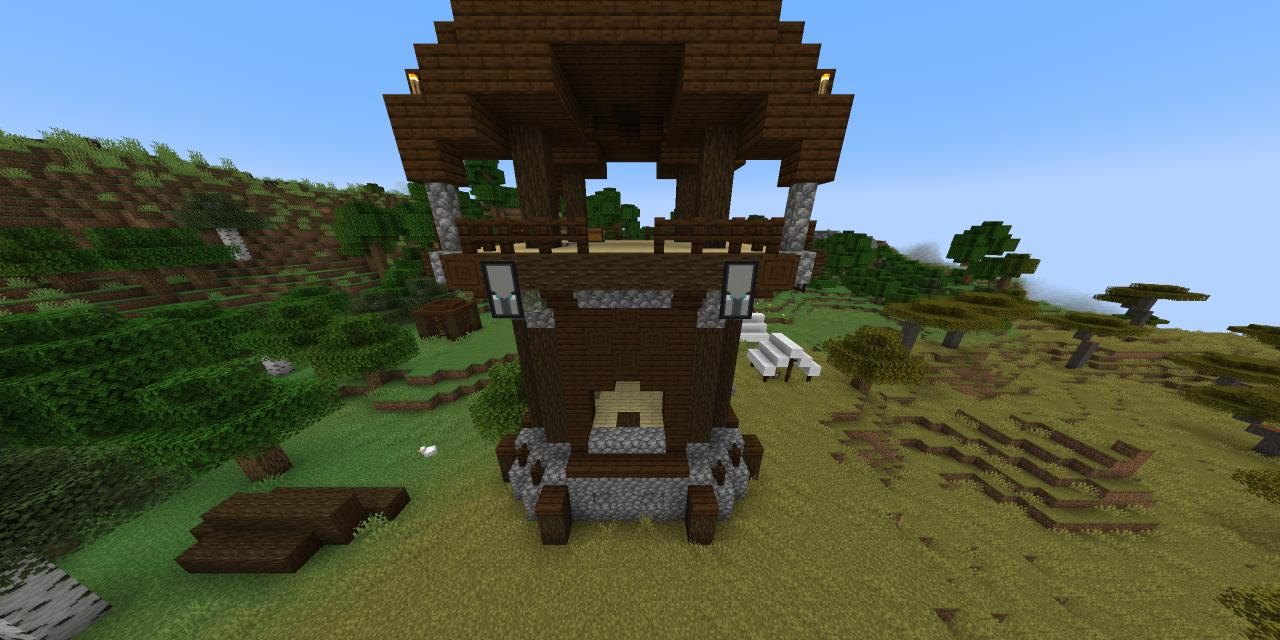pillager outpost: (375, 0, 865, 560)
